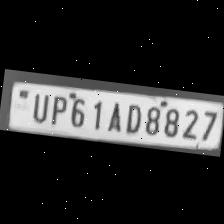1: (85, 95, 107, 131)
2: (178, 106, 200, 141)
6: (64, 94, 89, 129)
7: (196, 107, 218, 140)
8: (140, 102, 163, 136), (158, 104, 181, 138)
A: (102, 96, 125, 132)
D: (119, 99, 144, 134)
P: (46, 92, 68, 127)
U: (26, 89, 50, 123)
